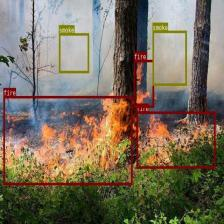fire: (3, 96, 132, 184), (136, 111, 215, 168), (134, 60, 154, 107)
smoke: (152, 30, 187, 85), (58, 33, 89, 73)
